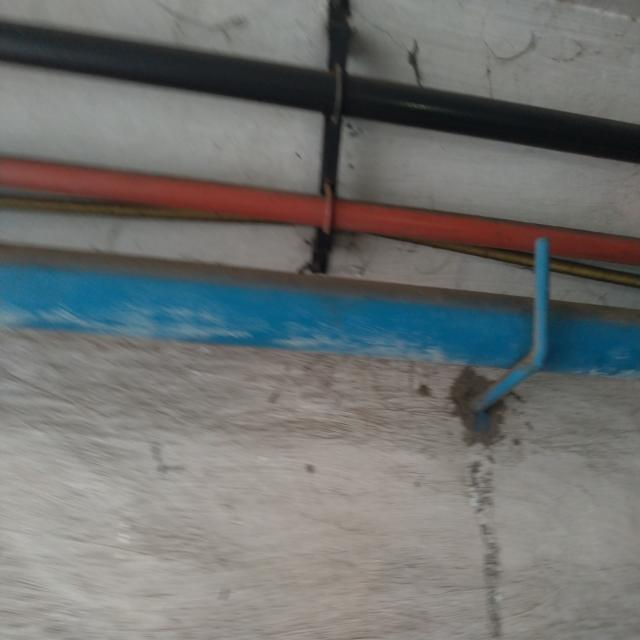gas: (3, 24, 639, 164), (0, 251, 639, 377), (3, 159, 638, 268)
